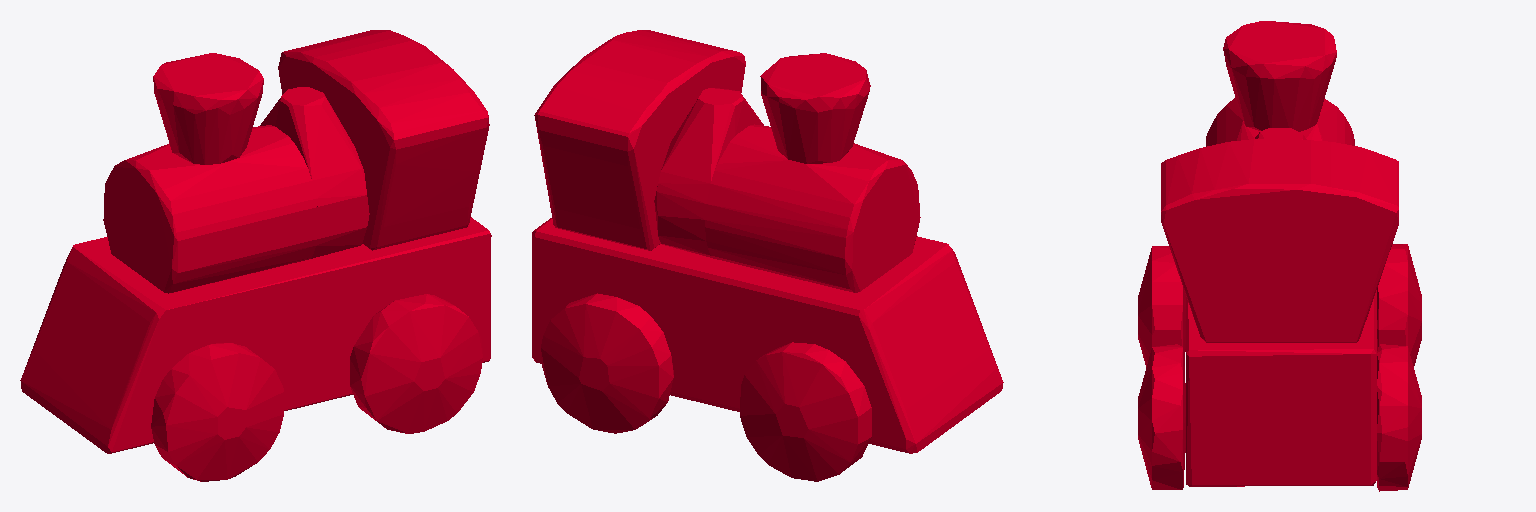
The robot description file, URDF, robot "train":
<robot name="train">
	<link name="_name">
		<visual>
			<origin xyz="-0.002656132571581453 -7.441684952344428e-10 -0.006853236400252107" rpy="0 0 0" />
			<geometry>
				<mesh filename="train_vhacd.obj" scale="0.75 0.75 0.75" />
			</geometry>
			<material name="red">
        		<color rgba="0.9 0 0.2 1.0"/>
      		</material>
		</visual>
		<collision>
			<geometry>
				<mesh filename="train_vhacd.obj" scale="0.75 0.75 0.75" />
			</geometry>
		<origin xyz="-0.002656132571581453 -7.441684952344428e-10 -0.006853236400252107" rpy="0 0 0" /></collision>
		<inertial>
			<mass value="1.0" />
			<inertia ixx="1.0" ixy="0.0" ixz="0.0" iyy="1.0" iyz="0.0" izz="1.0" />
		</inertial>
	</link>
</robot>

--- What the picture shows (computed from the rendered views, not written in the file) ---
Views: 3 orthographic renders of the robot side by side, from view 1: azimuth 30°, elevation 25°; view 2: azimuth 150°, elevation 25°; view 3: azimuth 270°, elevation 25°.
Robot: train — 1 links, 0 joints (none); root link _name; default pose: all joints at 0.
Visible links, largest first — view 1: _name; view 2: _name; view 3: _name.
Boxes of the visible links, x1,y1,x2,y2 form: _name: [20, 30, 491, 481]; _name: [532, 30, 1003, 481]; _name: [1138, 21, 1421, 491].
Size in the robot's own frame: 0.0796 by 0.0491 by 0.0692 metres.
1 mesh visuals loaded from 1 distinct referenced files (1 OBJ).
